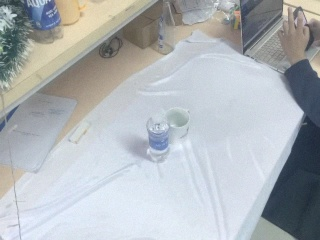bottle: (21, 1, 64, 44), (146, 111, 171, 162)
box: (122, 1, 174, 55)
cup: (165, 107, 190, 145)
